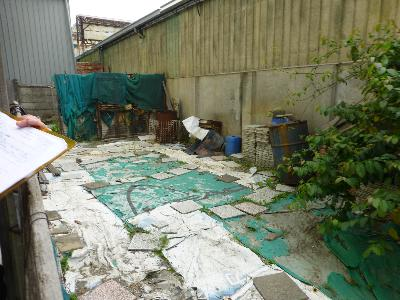bucket: (267, 118, 314, 188), (223, 134, 242, 156)
